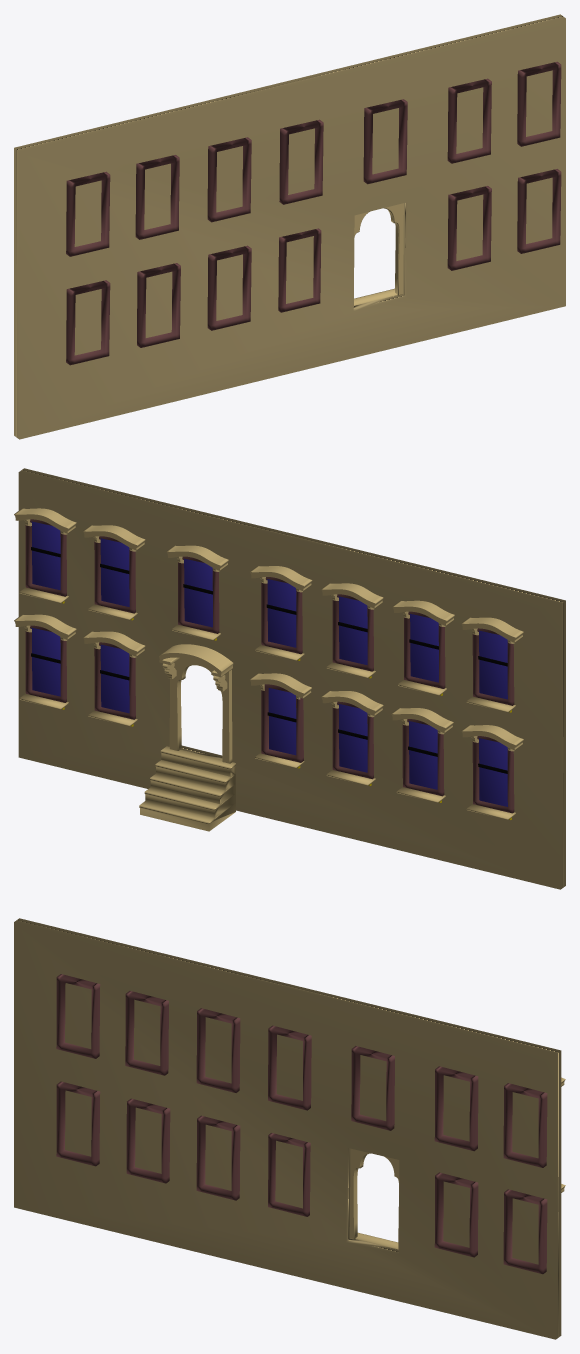
Rendered from brownstone.fbx.
The picture shows the model from 3 angles, top to bottom: view 1: azimuth 30°, elevation 25°; view 2: azimuth 150°, elevation 25°; view 3: azimuth 330°, elevation 25°; orthographic projection.
Parts seen in each view (by area): view 1: Wall, WindowFrame.012, WindowFrame.009, WindowFrame.007, WindowFrame.003, WindowFrame.004, WindowFrame.006, WindowFrame.001, WindowFrame.008, WindowFrame.005, WindowFrame.010, WindowFrame.011 (+3 smaller); view 2: Wall, Stairs, Door_Frame, Cube.007, Cube.010, Cube.011, Cube.006, Cube.009, Cube.005, Cube.001, Cube.012, Cube.004 (+31 smaller); view 3: Wall, WindowFrame.002, WindowFrame.012, WindowFrame.009, WindowFrame.006, WindowFrame.003, WindowFrame.001, WindowFrame.004, WindowFrame.005, WindowFrame.008, WindowFrame.011, WindowFrame.010 (+3 smaller).
Part boxes in pixels (x1,y1,x2,y2): Wall: (14, 14, 565, 439); WindowFrame.012: (517, 169, 561, 253); WindowFrame.009: (517, 61, 561, 146); WindowFrame.007: (279, 119, 323, 204); WindowFrame.003: (66, 280, 110, 365); WindowFrame.004: (66, 171, 110, 256); WindowFrame.006: (207, 137, 251, 222); WindowFrame.001: (207, 245, 251, 330); WindowFrame.008: (363, 99, 407, 184); WindowFrame.005: (135, 155, 179, 239); WindowFrame.010: (447, 78, 491, 163); WindowFrame.011: (447, 186, 491, 270); Wall: (18, 468, 565, 889); Stairs: (139, 746, 235, 831); Door_Frame: (169, 657, 232, 763); Cube.007: (267, 579, 296, 647); Cube.010: (100, 538, 129, 606); Cube.011: (100, 644, 129, 713); Cube.006: (338, 596, 367, 665); Cube.009: (31, 521, 60, 590); Cube.005: (410, 613, 438, 682); Cube.001: (338, 704, 367, 772); Cube.012: (31, 627, 60, 696); Cube.004: (479, 630, 507, 699); Wall: (14, 918, 561, 1339); WindowFrame.002: (126, 1098, 170, 1183); WindowFrame.012: (503, 1189, 547, 1274); WindowFrame.009: (503, 1083, 547, 1167); WindowFrame.006: (196, 1008, 240, 1092); WindowFrame.003: (56, 1081, 100, 1166); WindowFrame.001: (196, 1115, 240, 1200); WindowFrame.004: (56, 974, 100, 1058); WindowFrame.005: (125, 991, 168, 1075); WindowFrame.008: (351, 1046, 394, 1130); WindowFrame.011: (434, 1172, 478, 1257); WindowFrame.010: (434, 1066, 478, 1151).
Size of the model in its own units: 116 by 58.73 by 13.85.
